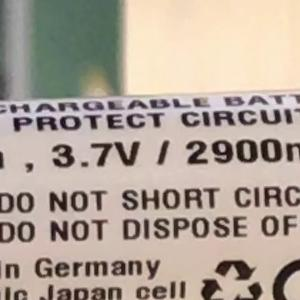keyword: (42, 131, 150, 178)
